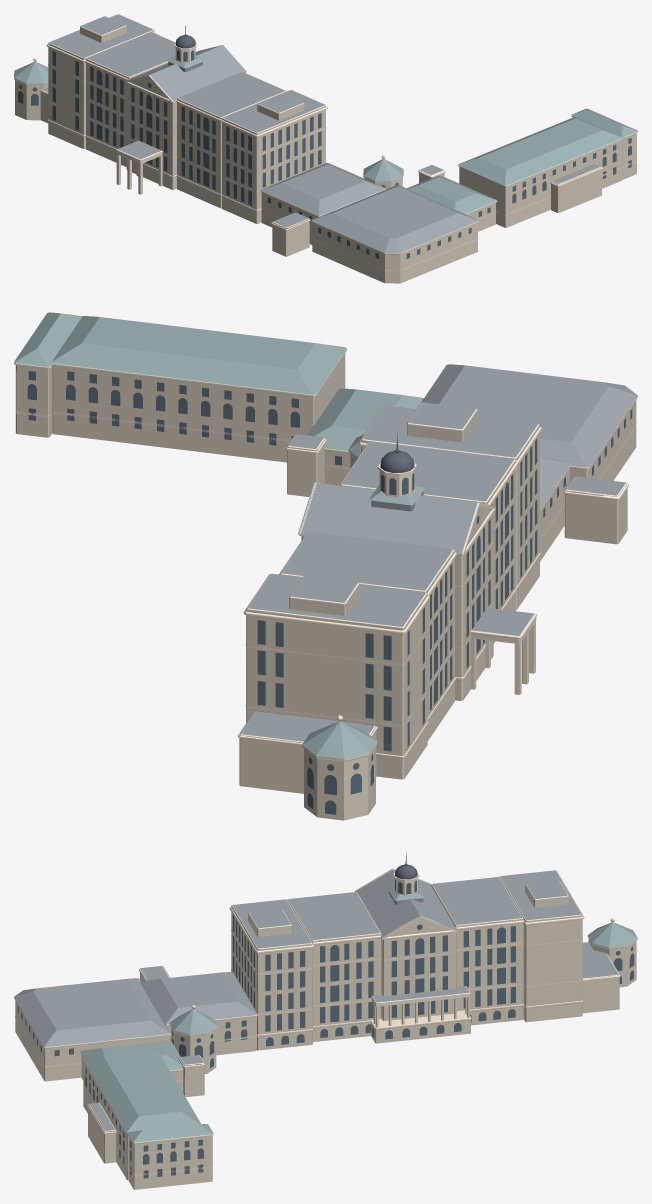
The picture shows the model from 3 angles, top to bottom: view 1: azimuth 30°, elevation 25°; view 2: azimuth 150°, elevation 25°; view 3: azimuth 270°, elevation 25°; orthographic projection. The views are drawn at different scales.
Visible parts, largest first — view 1: the-ballantyne-hotel; view 2: the-ballantyne-hotel; view 3: the-ballantyne-hotel.
Boxes of the visible parts, x1=… form: the-ballantyne-hotel: x1=14, y1=14, x2=637, y2=283; the-ballantyne-hotel: x1=14, y1=312, x2=637, y2=820; the-ballantyne-hotel: x1=14, y1=852, x2=637, y2=1189.
Size of the model in its own units: 146 by 49.15 by 173.
